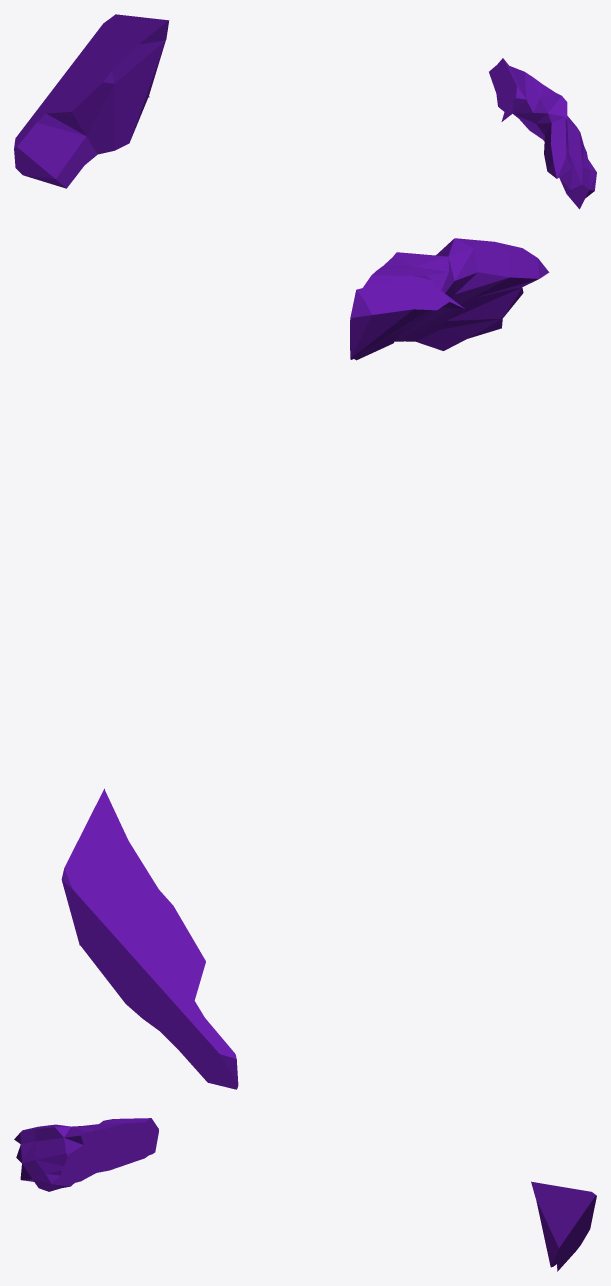
File: TheMan_6_chunks.fbx
3 renders of one model, top to bottom at view 1: azimuth 30°, elevation 25°; view 2: azimuth 150°, elevation 25°; view 3: azimuth 270°, elevation 25°, orthographic. The views are drawn at different scales.
Parts seen in each view (by area): view 1: TheMan_6_1, TheMan_6_2, TheMan_6_0, TheMan_6_3; view 2: TheMan_6_1, TheMan_6_2, TheMan_6_3, TheMan_6_0; view 3: TheMan_6_2, TheMan_6_1, TheMan_6_3, TheMan_6_0.
Part boxes in pixels (x1,y1,x2,y2): TheMan_6_1: (14, 14, 169, 188); TheMan_6_2: (512, 80, 596, 206); TheMan_6_0: (501, 108, 580, 209); TheMan_6_3: (489, 58, 537, 110); TheMan_6_1: (61, 788, 238, 1089); TheMan_6_2: (350, 238, 495, 360); TheMan_6_3: (350, 268, 445, 345); TheMan_6_0: (442, 241, 549, 329); TheMan_6_2: (21, 1124, 156, 1191); TheMan_6_1: (531, 1181, 596, 1271); TheMan_6_3: (95, 1118, 158, 1142); TheMan_6_0: (14, 1124, 54, 1180).
Size of the model in its own units: 383 by 447 by 1091.
